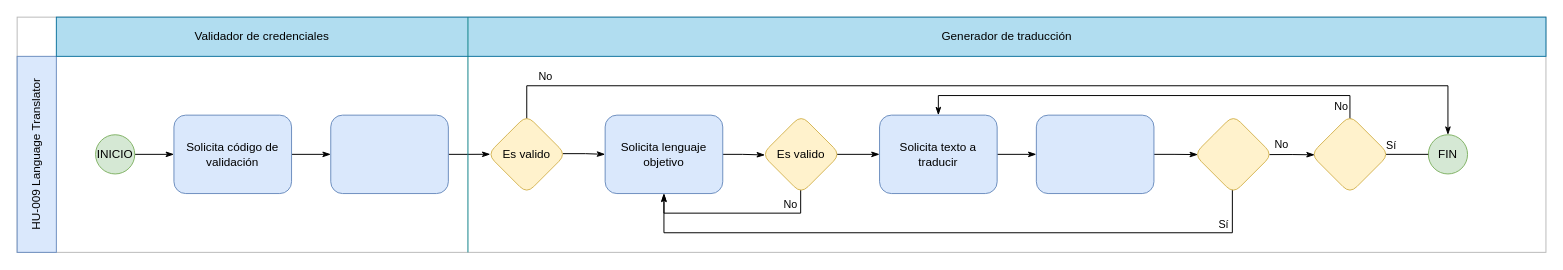
The diagram is 1563 pixels wide and 270 high, and some of its shapes have lost their labels. Here are the shapes that lost their labels. From the top down, the centre of each, then its label:
At point (389, 154): "Valida el código".
At point (1094, 154): "Enviar notificación a Slack".
At point (1233, 154): "Cambiar idioma".
At point (1349, 154): "Finalizar".
